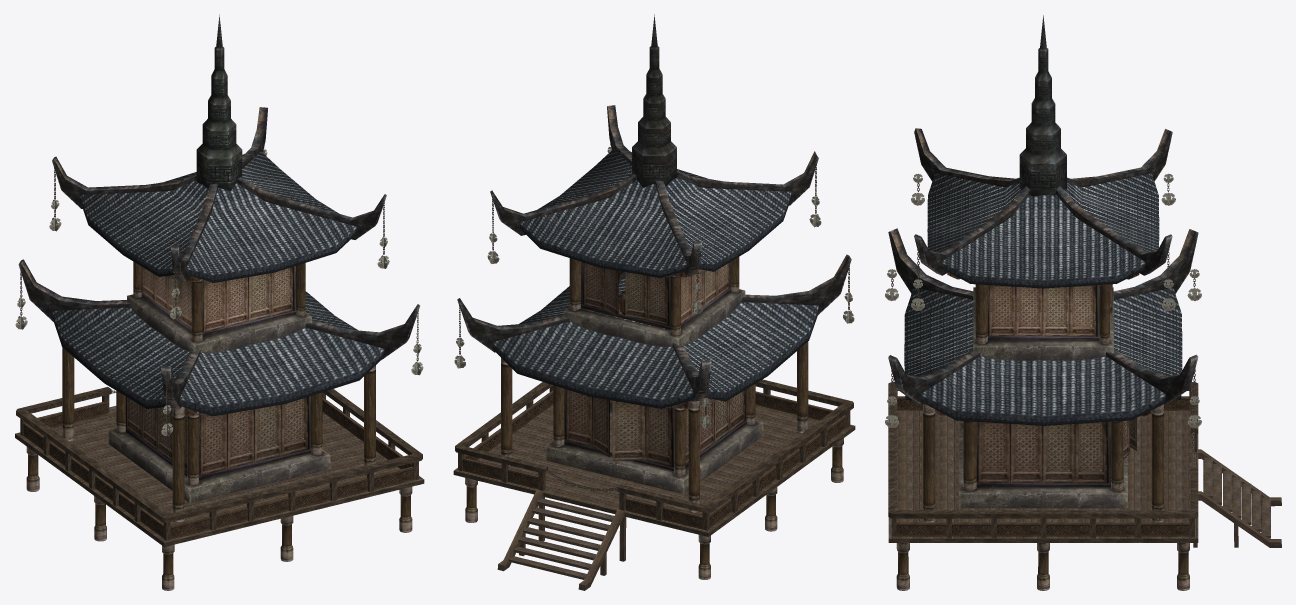
File: Building_004_03.fbx
3 renders of one model, left to right at view 1: azimuth 30°, elevation 25°; view 2: azimuth 150°, elevation 25°; view 3: azimuth 270°, elevation 25°, orthographic. The views are drawn at different scales.
Parts seen in each view (by area): view 1: Building_004_03; view 2: Building_004_03; view 3: Building_004_03.
Part boxes in pixels (<box>): Building_004_03: <box>15,14,424,590</box>; Building_004_03: <box>453,14,855,590</box>; Building_004_03: <box>885,15,1281,590</box>.
Size of the model in its own units: 1216 by 2180 by 1529.
Materials: 3 (3 with a texture image).
